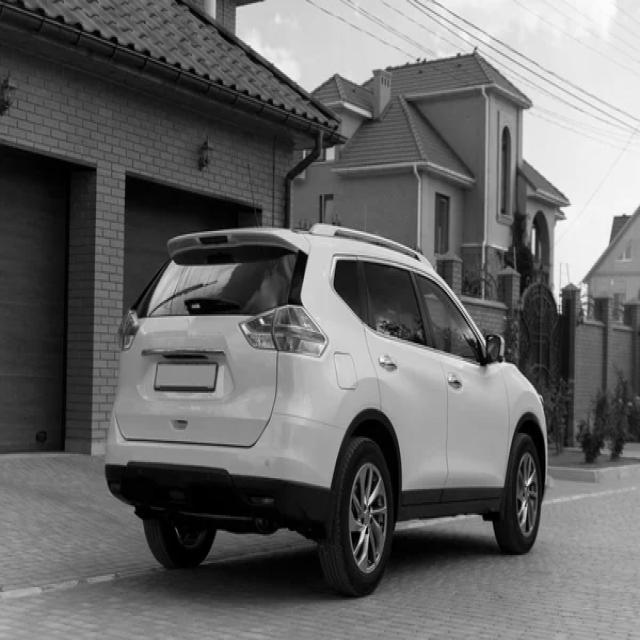Car: (105, 224, 550, 596)
